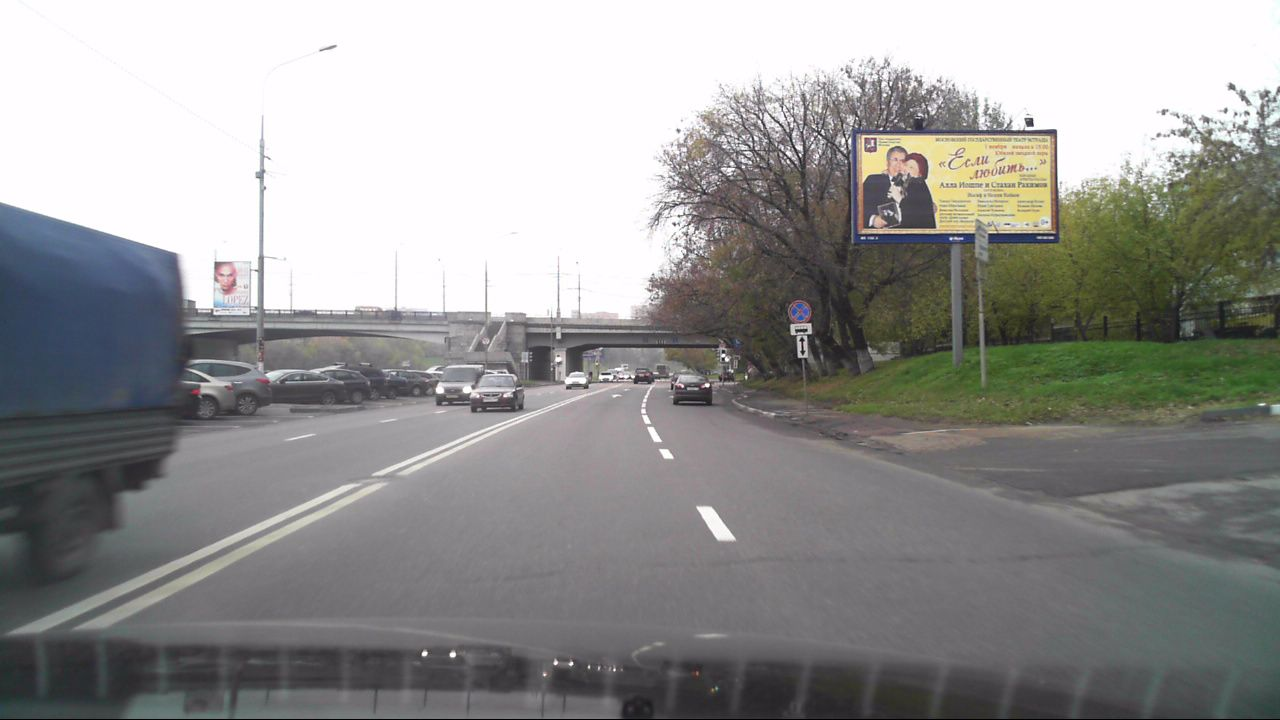No Parking: (786, 300, 811, 323)
